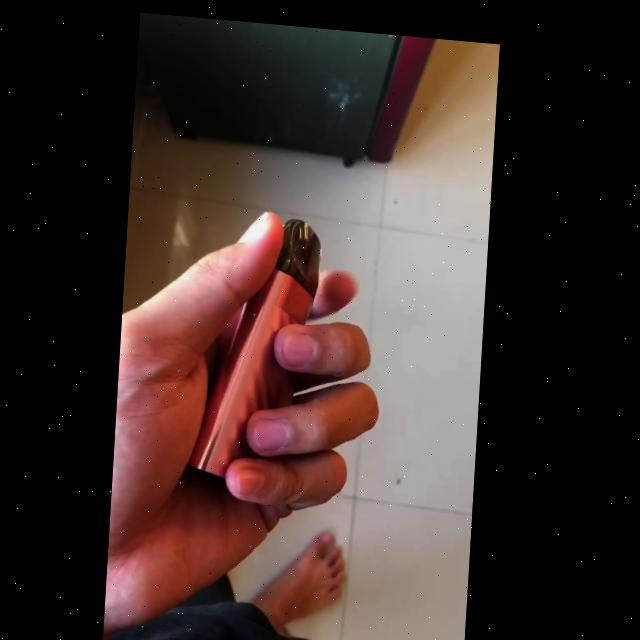vape: (192, 205, 328, 482)
